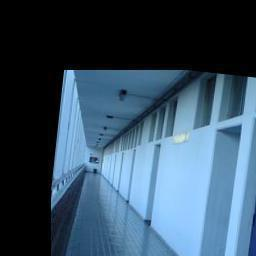Puerta: (241, 115, 256, 256)
